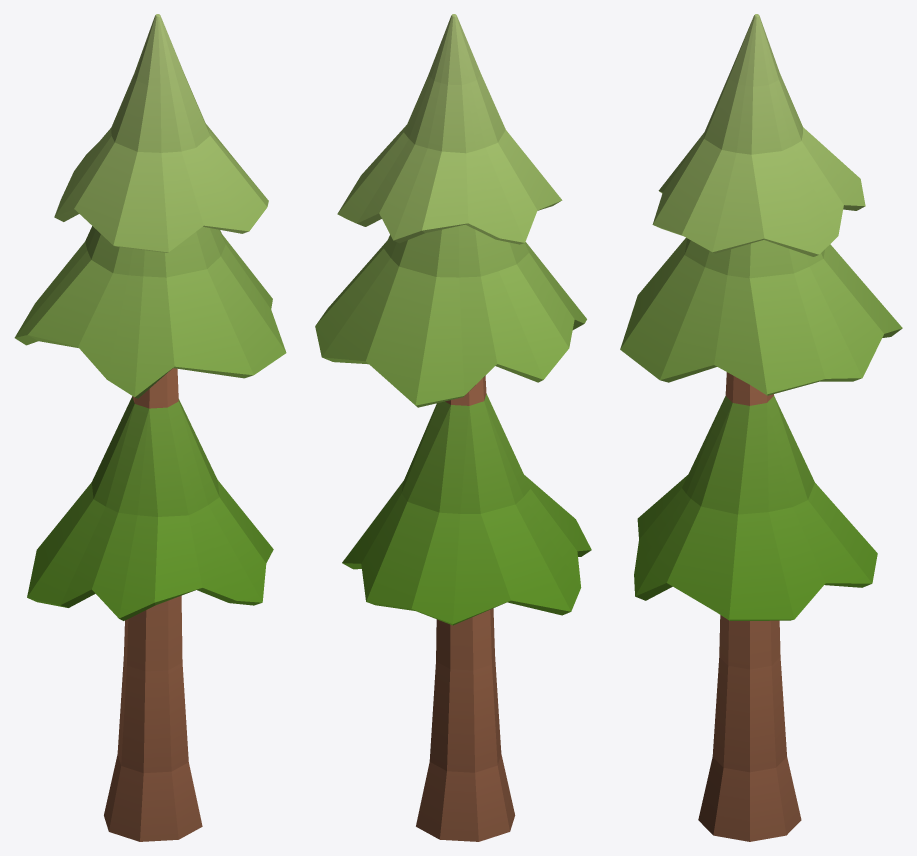
File: pine tree medium.fbx
3 views of the same model, side by side, from view 1: azimuth 30°, elevation 25°; view 2: azimuth 150°, elevation 25°; view 3: azimuth 270°, elevation 25° (orthographic).
Visible parts, largest first — view 1: pine tree medium; view 2: pine tree medium; view 3: pine tree medium.
Boxes of the visible parts, x1,y1,x2,y2 form: pine tree medium: (14,14,286,841); pine tree medium: (315,14,591,841); pine tree medium: (620,14,902,841).
Bounding box in the file's own units: 241 × 756 × 239.
